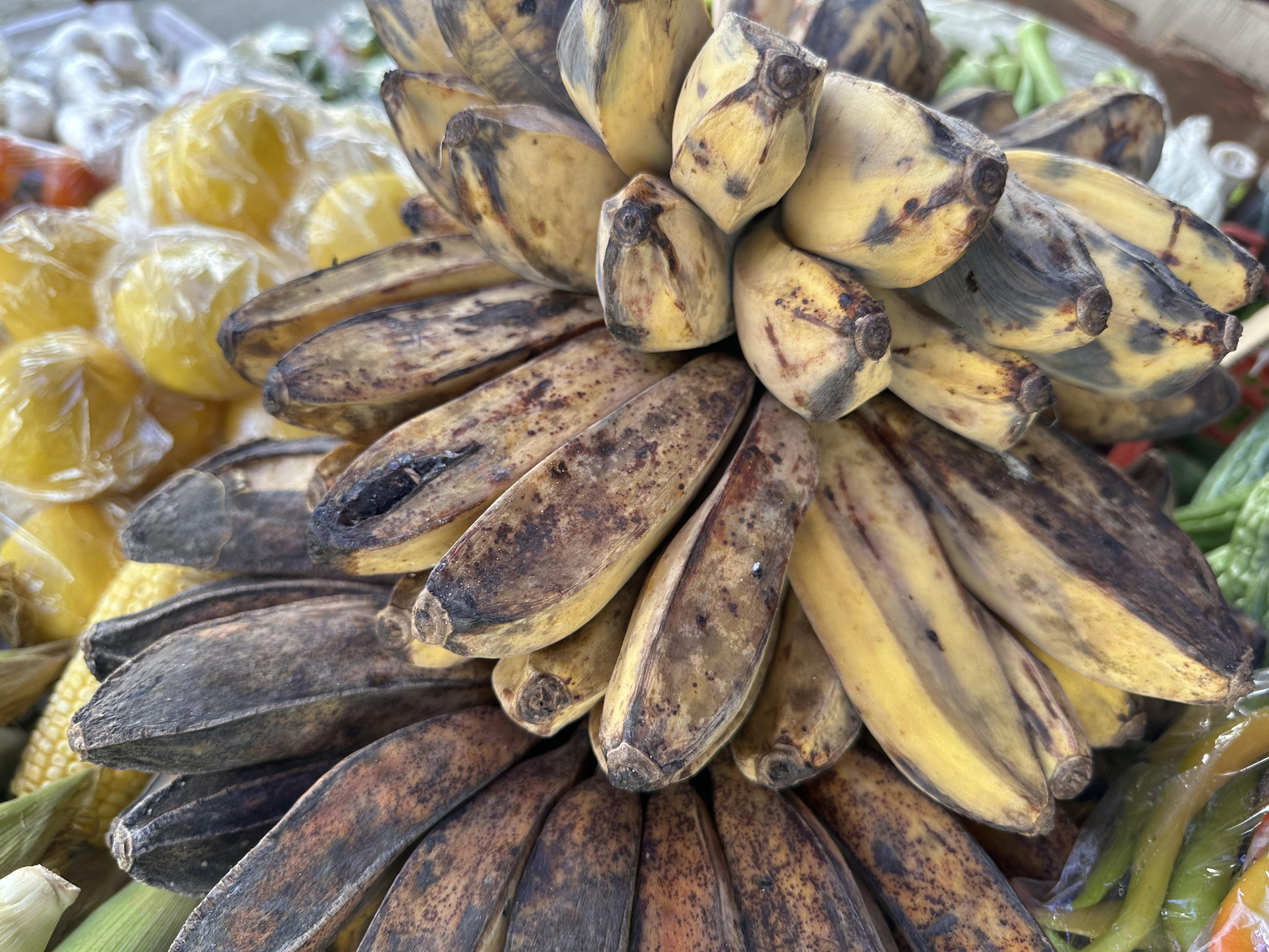overripe: (72, 439, 1061, 952)
ripe: (212, 195, 1256, 833), (365, 0, 1257, 450)
